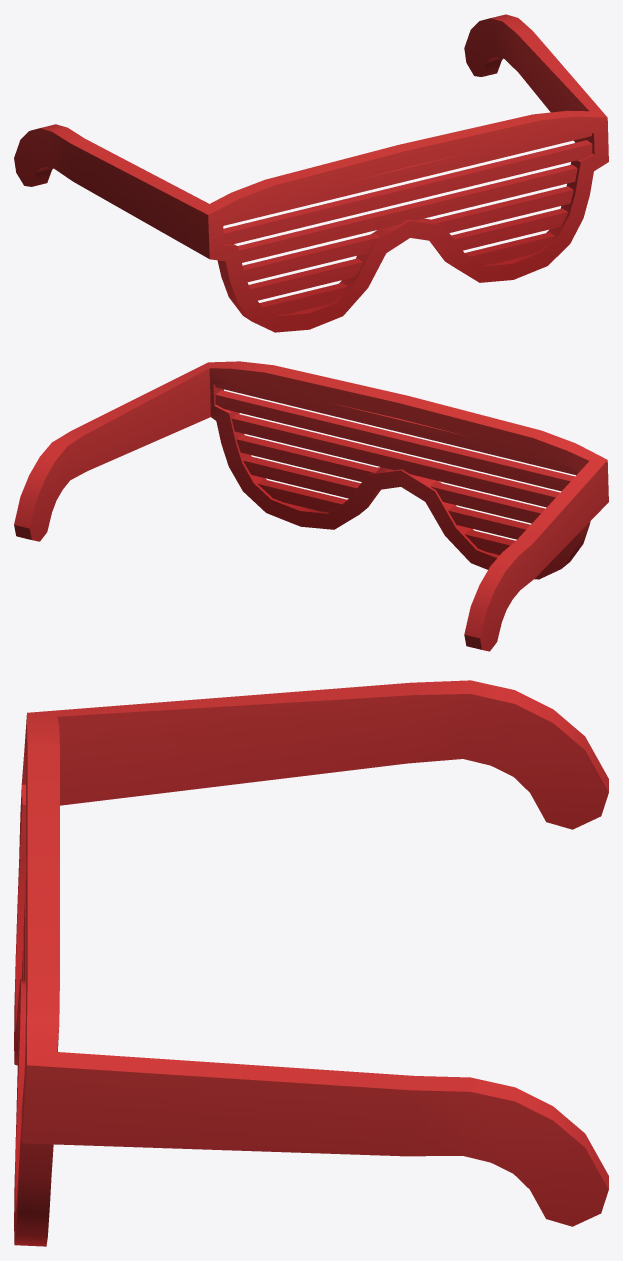
File: Glasses_11.glb
3 views of the same model, one above another, from view 1: azimuth 30°, elevation 25°; view 2: azimuth 150°, elevation 25°; view 3: azimuth 270°, elevation 25° (orthographic). The views are drawn at different scales.
Visible parts, largest first — view 1: Glasses_11; view 2: Glasses_11; view 3: Glasses_11.
Part boxes in pixels (x1,y1,x2,y2): Glasses_11: (14, 14, 608, 332); Glasses_11: (14, 361, 608, 651); Glasses_11: (14, 680, 608, 1246).
Bounding box in the file's own units: 0.606 × 0.189 × 0.3703.
1 material, 1 textured.
